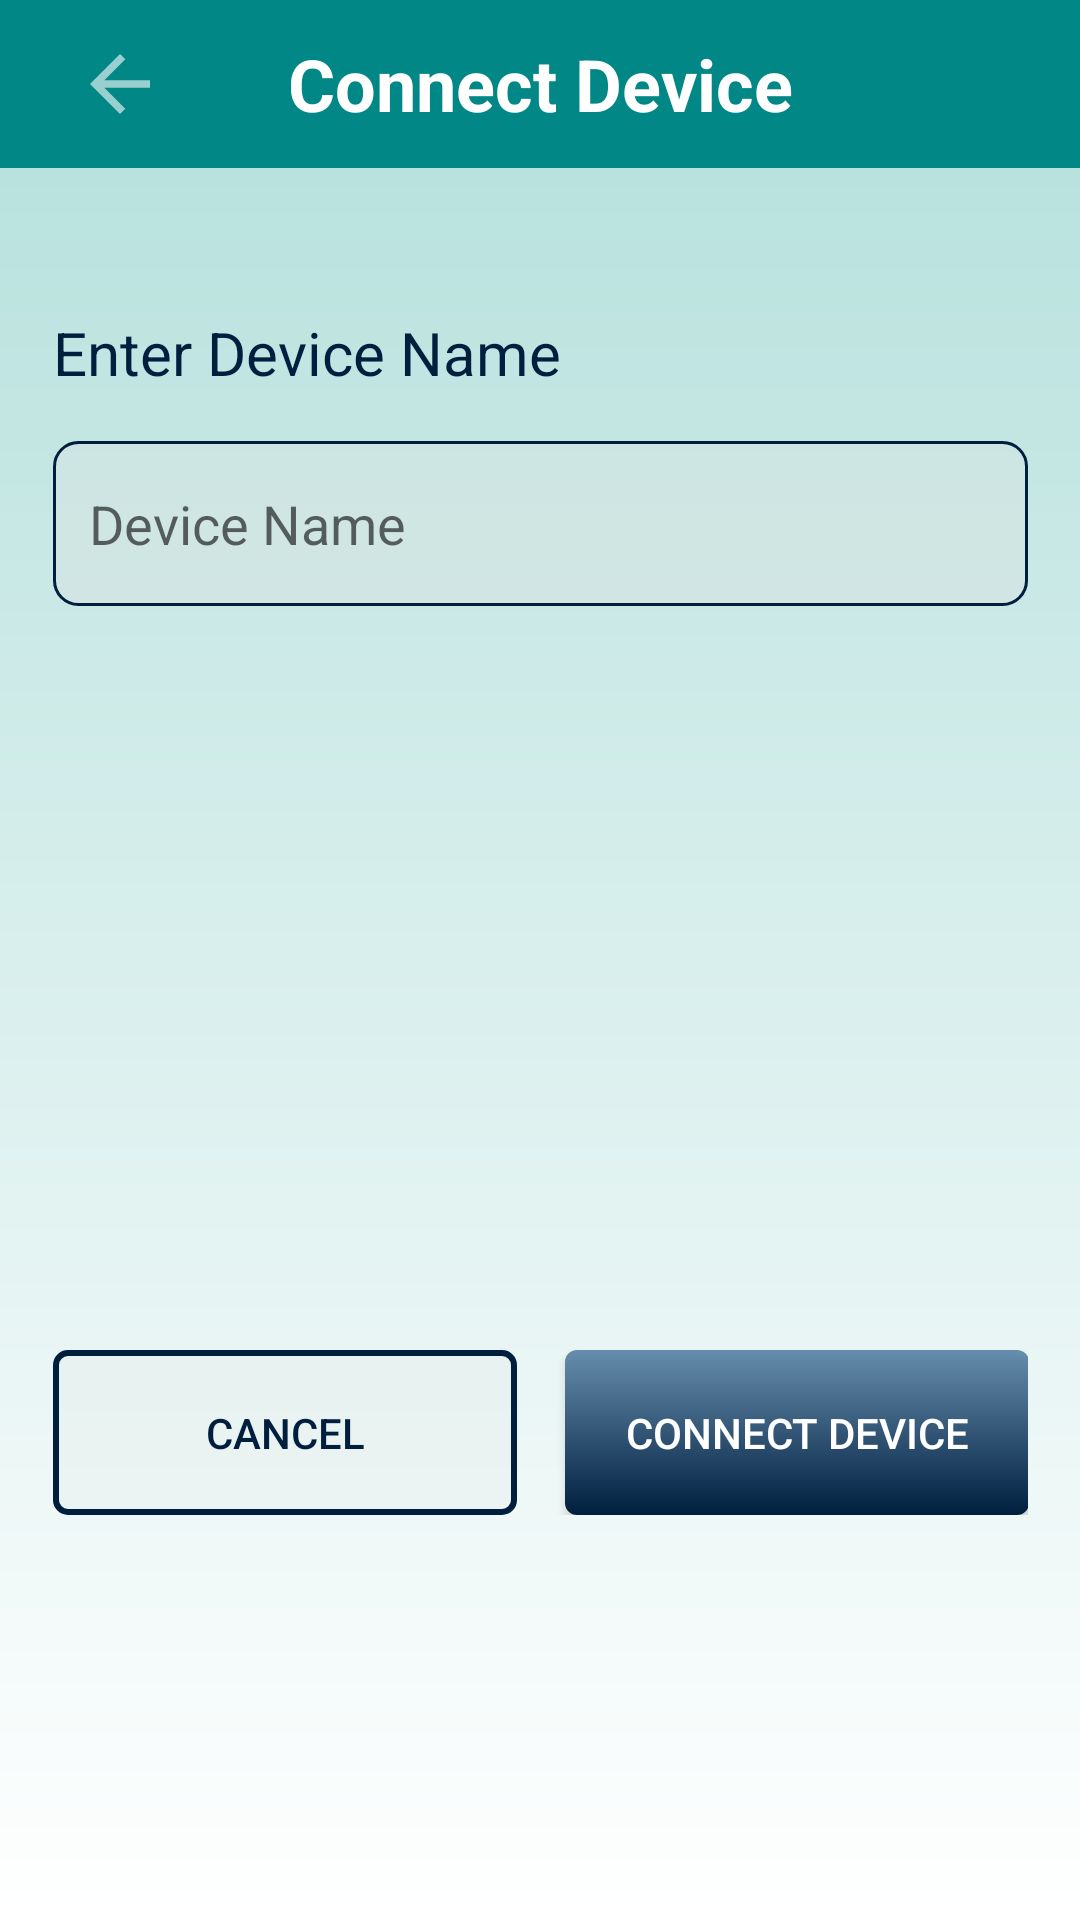

Where icons sit on this 1080×1920 app screen, as (x1,y1,x2,y2):
Back Button: (90,54,150,114)
